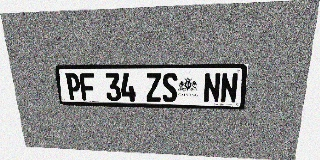3: (105, 73, 121, 101)
4: (120, 73, 136, 101)
F: (79, 73, 96, 101)
N: (203, 73, 221, 103), (220, 73, 238, 103)
P: (65, 73, 82, 100)
S: (162, 73, 177, 102)
Z: (146, 73, 162, 102)
